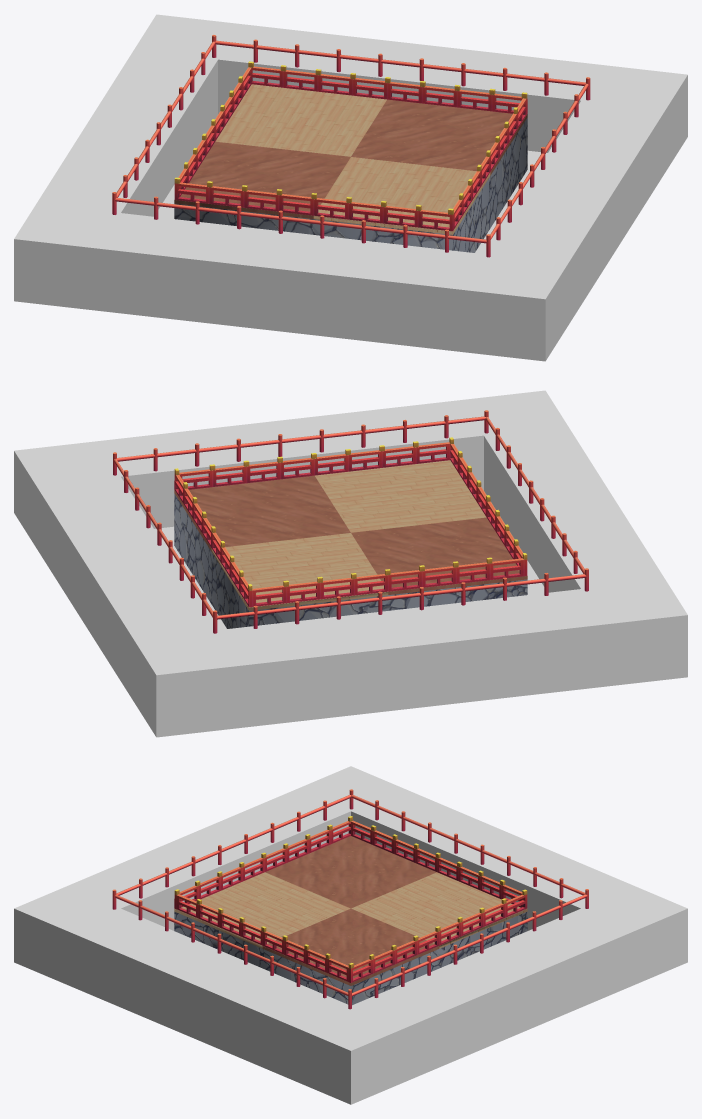
The model's file is Duel_Stage 26.fbx.
3 renders of one model, top to bottom at view 1: azimuth 30°, elevation 25°; view 2: azimuth 150°, elevation 25°; view 3: azimuth 270°, elevation 25°, orthographic. The views are drawn at different scales.
Parts seen in each view (by area): view 1: Plane.010, Platform_Cube_2, Cube.050, Cube.037; view 2: Plane.010, Platform_Cube_2, Cube.050, Cube.037; view 3: Plane.010, Platform_Cube_2, Cube.050, Cube.037.
Boxes of the visible parts, x1,y1,x2,y2 form: Plane.010: (14, 14, 687, 361); Platform_Cube_2: (174, 84, 527, 252); Cube.050: (174, 61, 527, 231); Cube.037: (112, 34, 590, 257); Plane.010: (14, 390, 687, 737); Platform_Cube_2: (174, 460, 527, 628); Cube.050: (174, 437, 527, 607); Cube.037: (113, 410, 588, 633); Plane.010: (14, 766, 687, 1104); Platform_Cube_2: (174, 836, 527, 1005); Cube.050: (174, 816, 527, 982); Cube.037: (112, 789, 588, 1009).
Size of the model in its own units: 11335 by 1346 by 11335.
